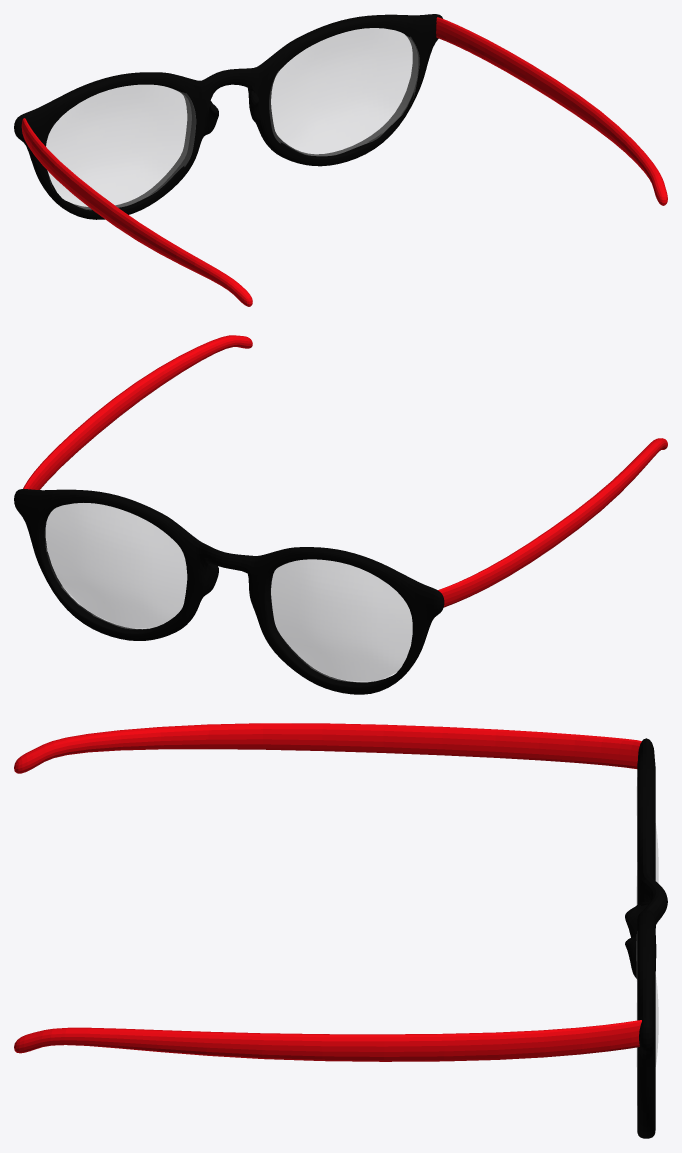
File: rednblack.glb
3 renders of one model, top to bottom at view 1: azimuth 30°, elevation 25°; view 2: azimuth 150°, elevation 25°; view 3: azimuth 270°, elevation 25°, orthographic. The views are drawn at different scales.
Visible parts, largest first — view 1: lenses_Plane.005, frame.003_Plane.003, handles._Plane.004; view 2: lenses_Plane.005, frame.003_Plane.003, handles._Plane.004; view 3: handles._Plane.004, frame.003_Plane.003.
Part boxes in pixels (left/top/right/bottom): lenses_Plane.005: left=46, top=28, right=419, bottom=209; frame.003_Plane.003: left=14, top=14, right=442, bottom=219; handles._Plane.004: left=21, top=17, right=667, bottom=306; lenses_Plane.005: left=45, top=503, right=412, bottom=682; frame.003_Plane.003: left=14, top=489, right=444, bottom=694; handles._Plane.004: left=23, top=335, right=667, bottom=607; handles._Plane.004: left=14, top=723, right=641, bottom=1061; frame.003_Plane.003: left=625, top=738, right=667, bottom=1138.
Size of the model in its own units: 3.65 by 1.04 by 3.18.
